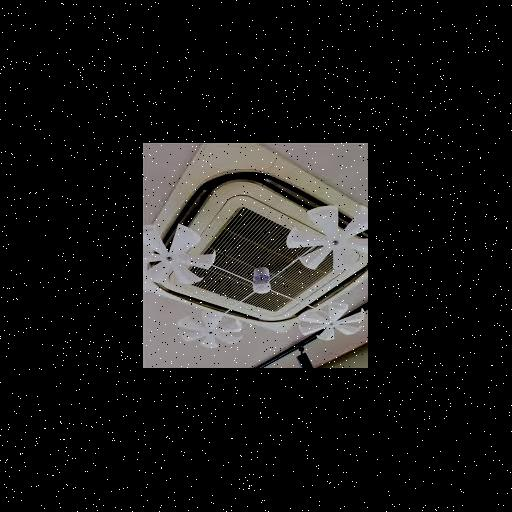4-way-ac: (144, 146, 368, 332)
